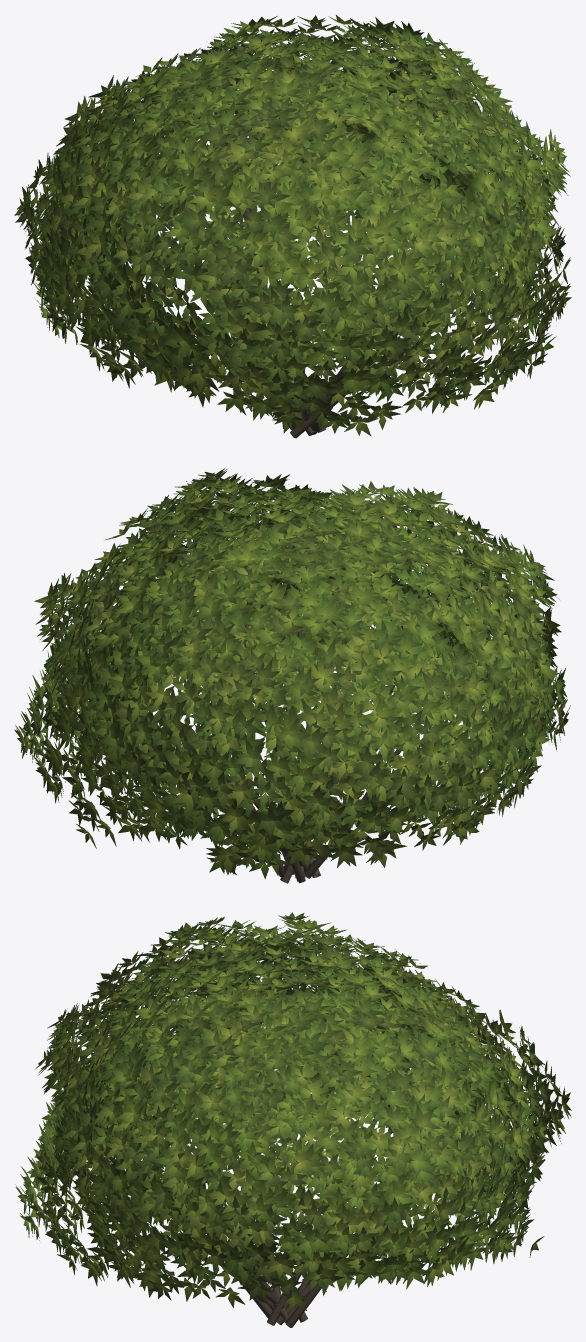
The model's file is SM_Plant_Azalea.fbx.
3 views of the same model, one above another, from view 1: azimuth 30°, elevation 25°; view 2: azimuth 150°, elevation 25°; view 3: azimuth 270°, elevation 25° (orthographic). The views are drawn at different scales.
Parts seen in each view (by area): view 1: SM_Plant_Azalea; view 2: SM_Plant_Azalea; view 3: SM_Plant_Azalea.
Part boxes in pixels (x1,y1,x2,y2): SM_Plant_Azalea: (14,15,571,438); SM_Plant_Azalea: (14,468,570,883); SM_Plant_Azalea: (15,912,571,1327).
Bounding box in the file's own units: 1.38 × 1.06 × 1.46.
Materials: 2 (1 with a texture image).
